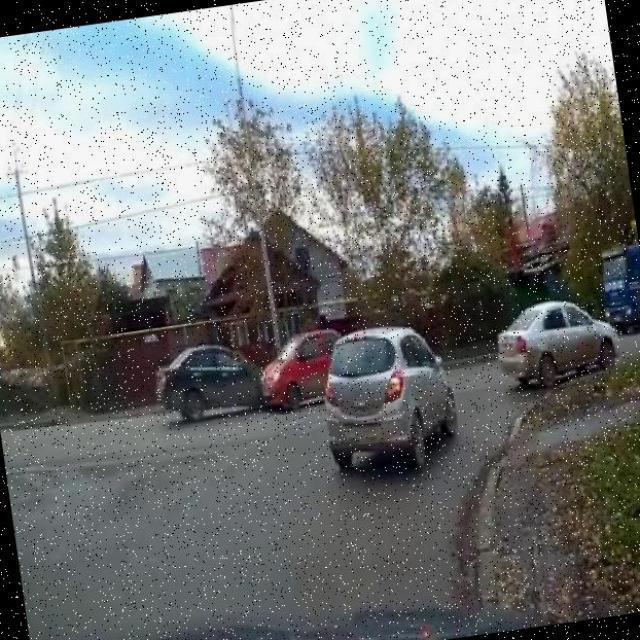accident: (203, 332, 326, 412)
